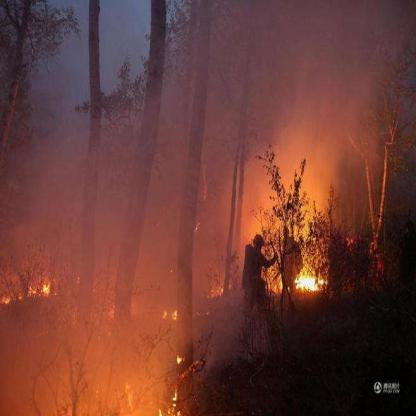fire: (160, 293, 194, 415), (1, 265, 53, 305), (291, 269, 327, 295), (209, 279, 227, 301)
